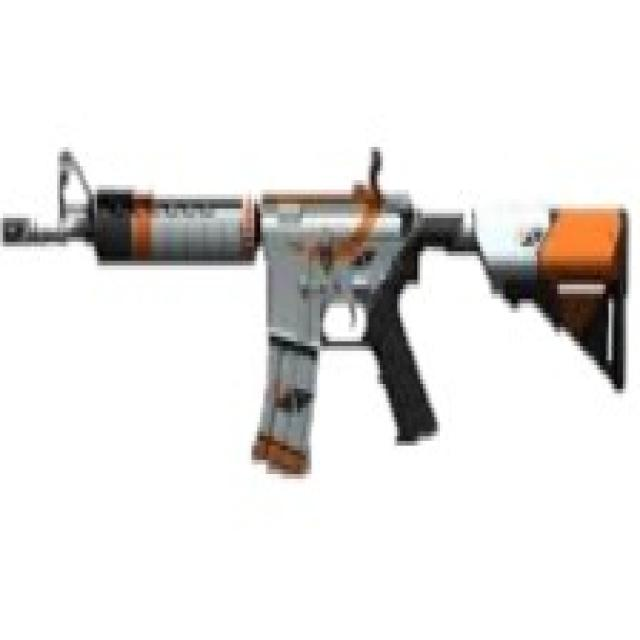rifle: (1, 133, 635, 519)
